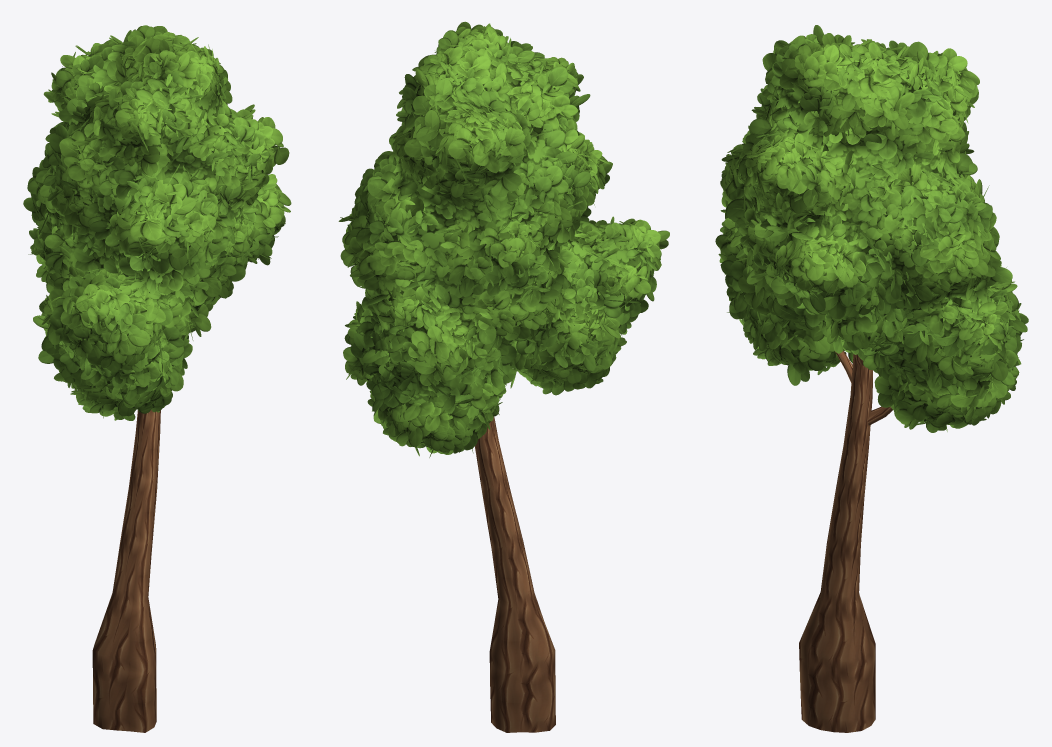
Rendered from aspen_v2.gltf.
3 renders of one model, left to right at view 1: azimuth 30°, elevation 25°; view 2: azimuth 150°, elevation 25°; view 3: azimuth 270°, elevation 25°, orthographic. The views are drawn at different scales.
Parts seen in each view (by area): view 1: aspen_v2_leaves_LOD0, aspen_v2_trunk_LOD0, aspen_v2_volume_LOD0; view 2: aspen_v2_leaves_LOD0, aspen_v2_volume_LOD0, aspen_v2_trunk_LOD0; view 3: aspen_v2_leaves_LOD0, aspen_v2_trunk_LOD0, aspen_v2_volume_LOD0.
Part boxes in pixels (box(x1,y1,x2,y2)): aspen_v2_leaves_LOD0: box(23, 25, 291, 420); aspen_v2_trunk_LOD0: box(92, 410, 160, 732); aspen_v2_volume_LOD0: box(42, 49, 276, 407); aspen_v2_leaves_LOD0: box(338, 21, 669, 457); aspen_v2_volume_LOD0: box(355, 49, 655, 441); aspen_v2_trunk_LOD0: box(475, 416, 555, 732); aspen_v2_leaves_LOD0: box(715, 25, 1028, 432); aspen_v2_trunk_LOD0: box(799, 350, 892, 732); aspen_v2_volume_LOD0: box(731, 55, 1005, 421).
Size of what is drawn, in the model's own units: 5.21 by 12.41 by 5.22.
3 materials, 3 textured.
